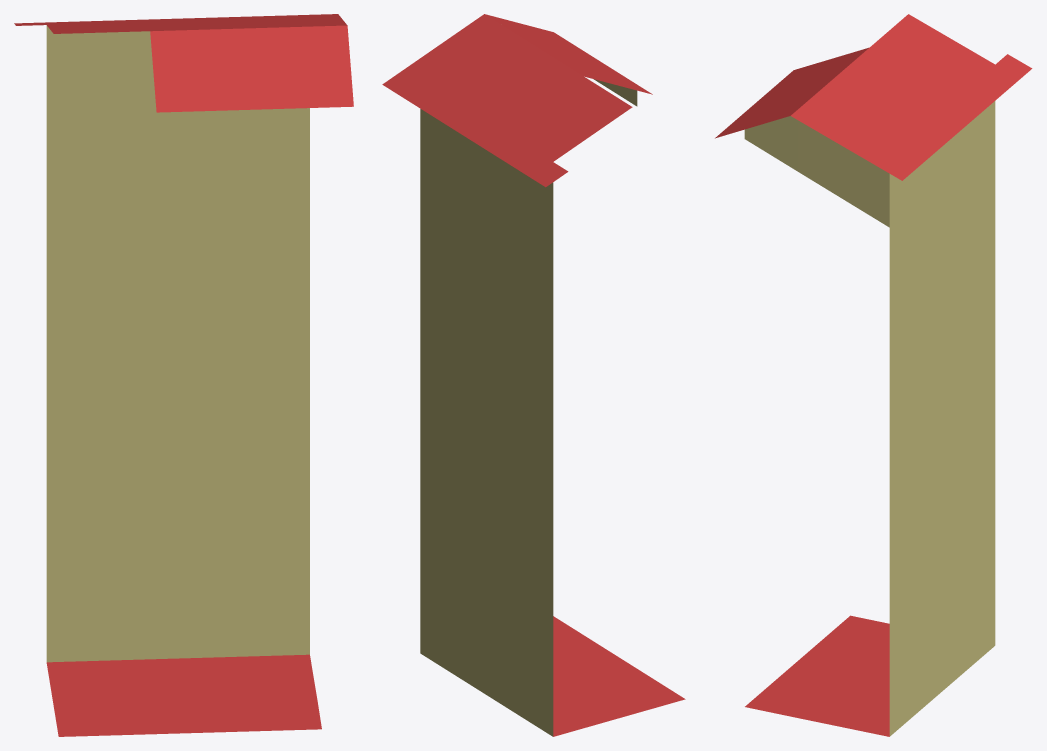
3 renders of one model, left to right at view 1: azimuth 30°, elevation 25°; view 2: azimuth 150°, elevation 25°; view 3: azimuth 270°, elevation 25°, orthographic. The views are drawn at different scales.
Bounding box in the file's own units: 5.84 × 5.73 × 12.19.
